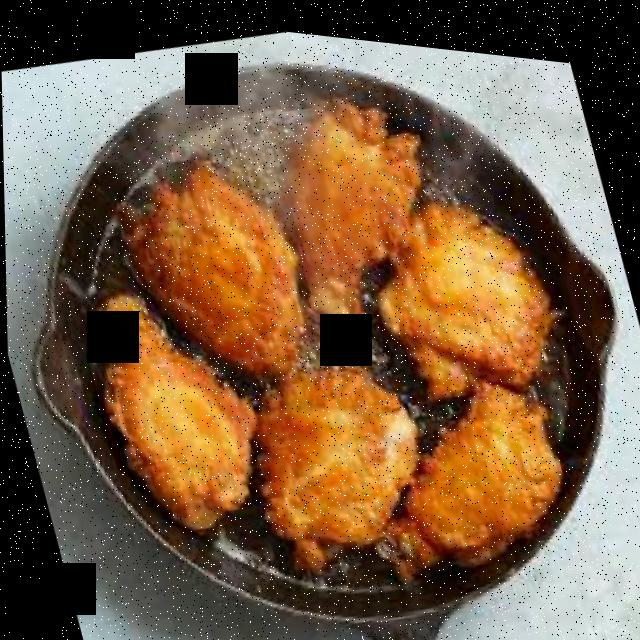Frango: (24, 13, 616, 640)
